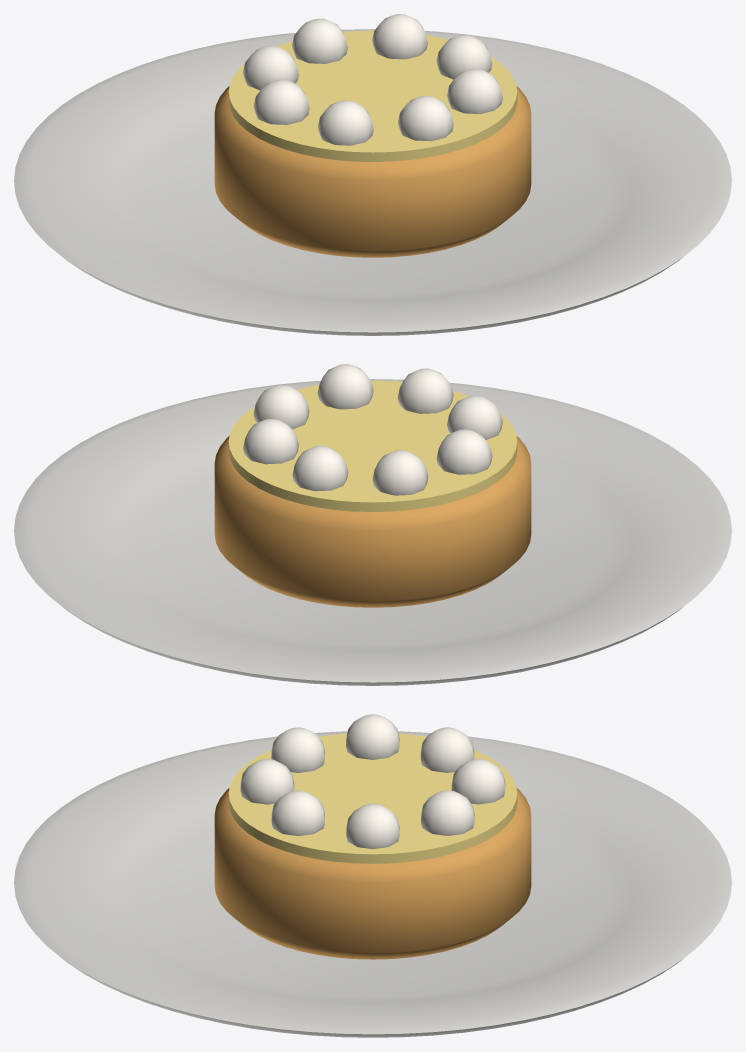
Rendered from sobremesa-torta.glb.
3 views of the same model, one above another, from view 1: azimuth 30°, elevation 25°; view 2: azimuth 150°, elevation 25°; view 3: azimuth 270°, elevation 25° (orthographic).
Parts seen in each view (by area): view 1: sobremesa-torta; view 2: sobremesa-torta; view 3: sobremesa-torta.
Boxes of the visible parts, bbox=[...] form: sobremesa-torta: bbox=[14, 14, 731, 335]; sobremesa-torta: bbox=[14, 364, 731, 685]; sobremesa-torta: bbox=[14, 714, 731, 1037].
Bounding box in the file's own units: 0.204 × 0.055 × 0.204.
